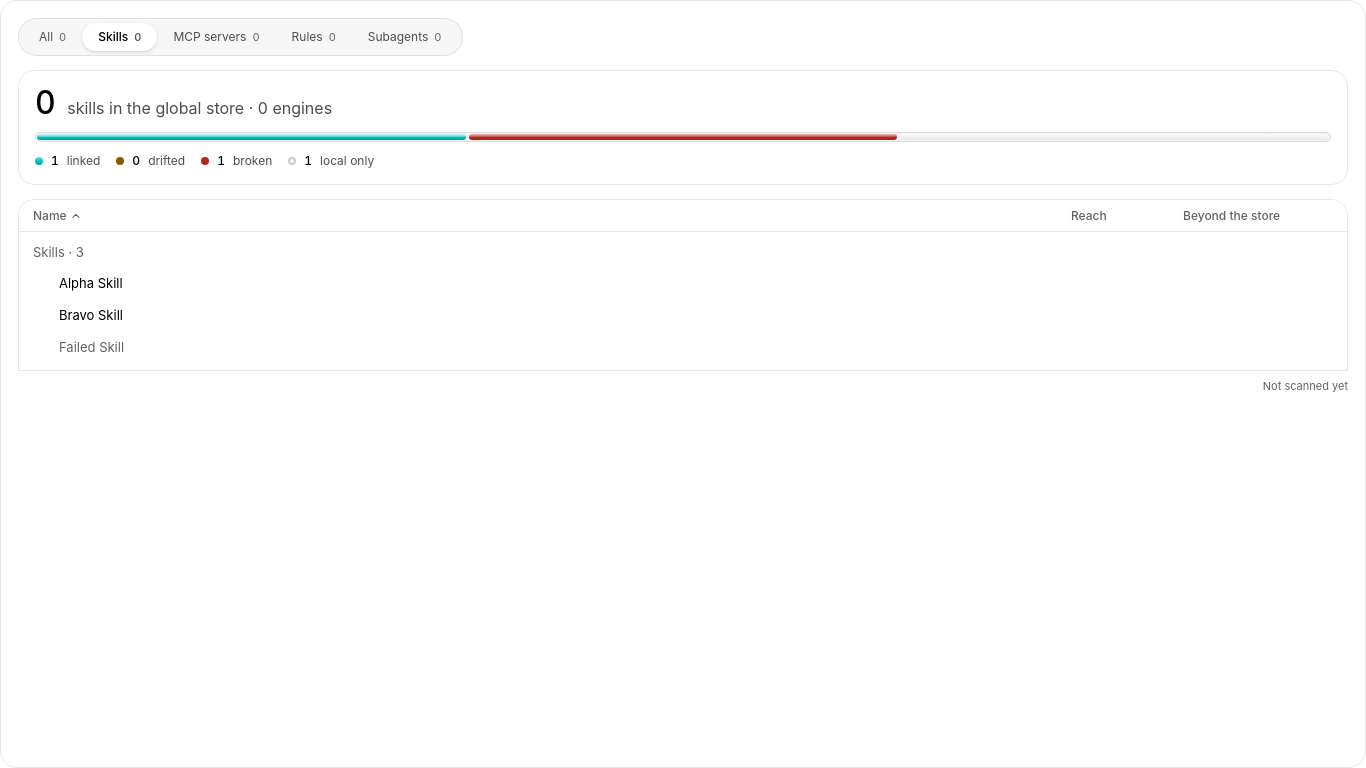
Test: Avionics A6 Asset Table Spec Compliance › 2. Clicking a header sorts; clicking again reverses. Assert row ORDER.
Click Name header to toggle to descending
Step 1. Click the button "Name" → x=50, y=215, box [33,206,1059,224]
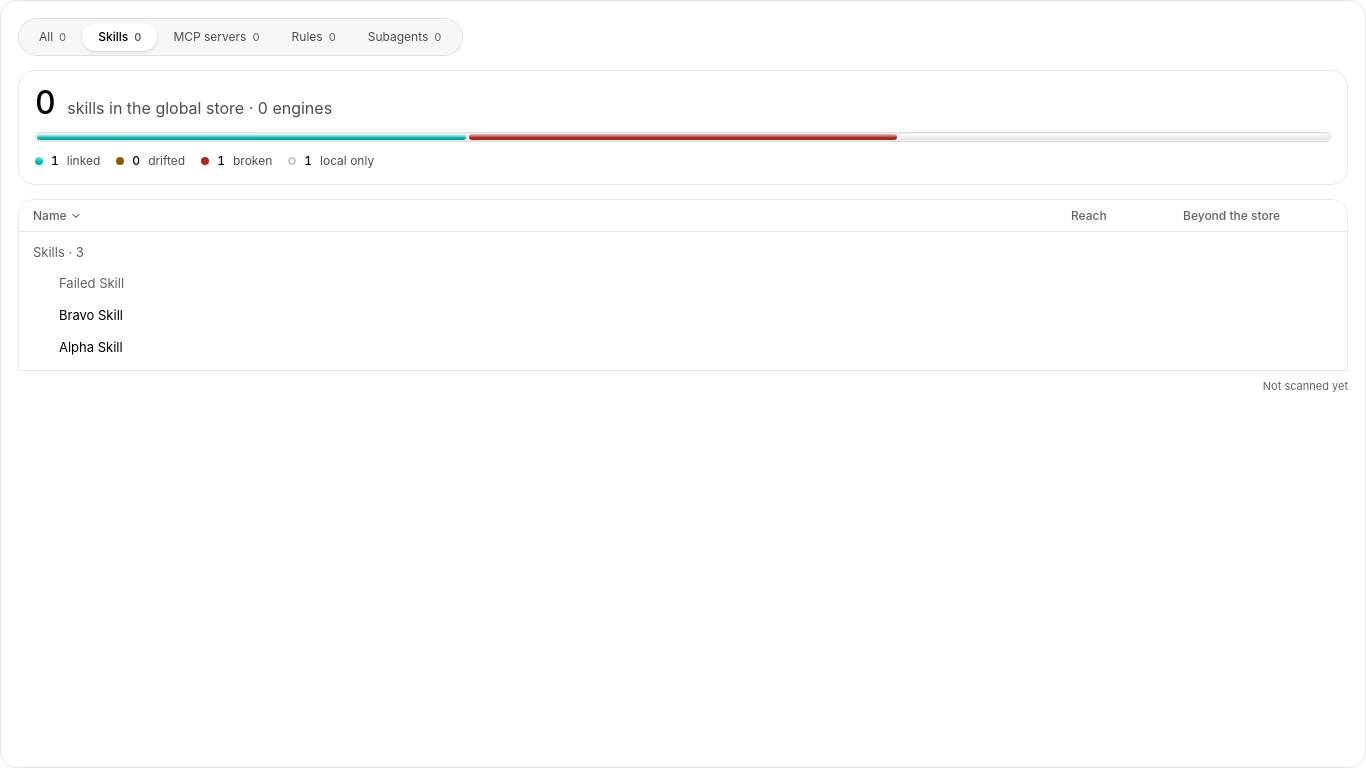
Now the text with class "truncate" reads "Failed Skill", box [59,275,124,291]
Now the text with class "truncate" reads "Alpha Skill", box [59,339,123,355]
